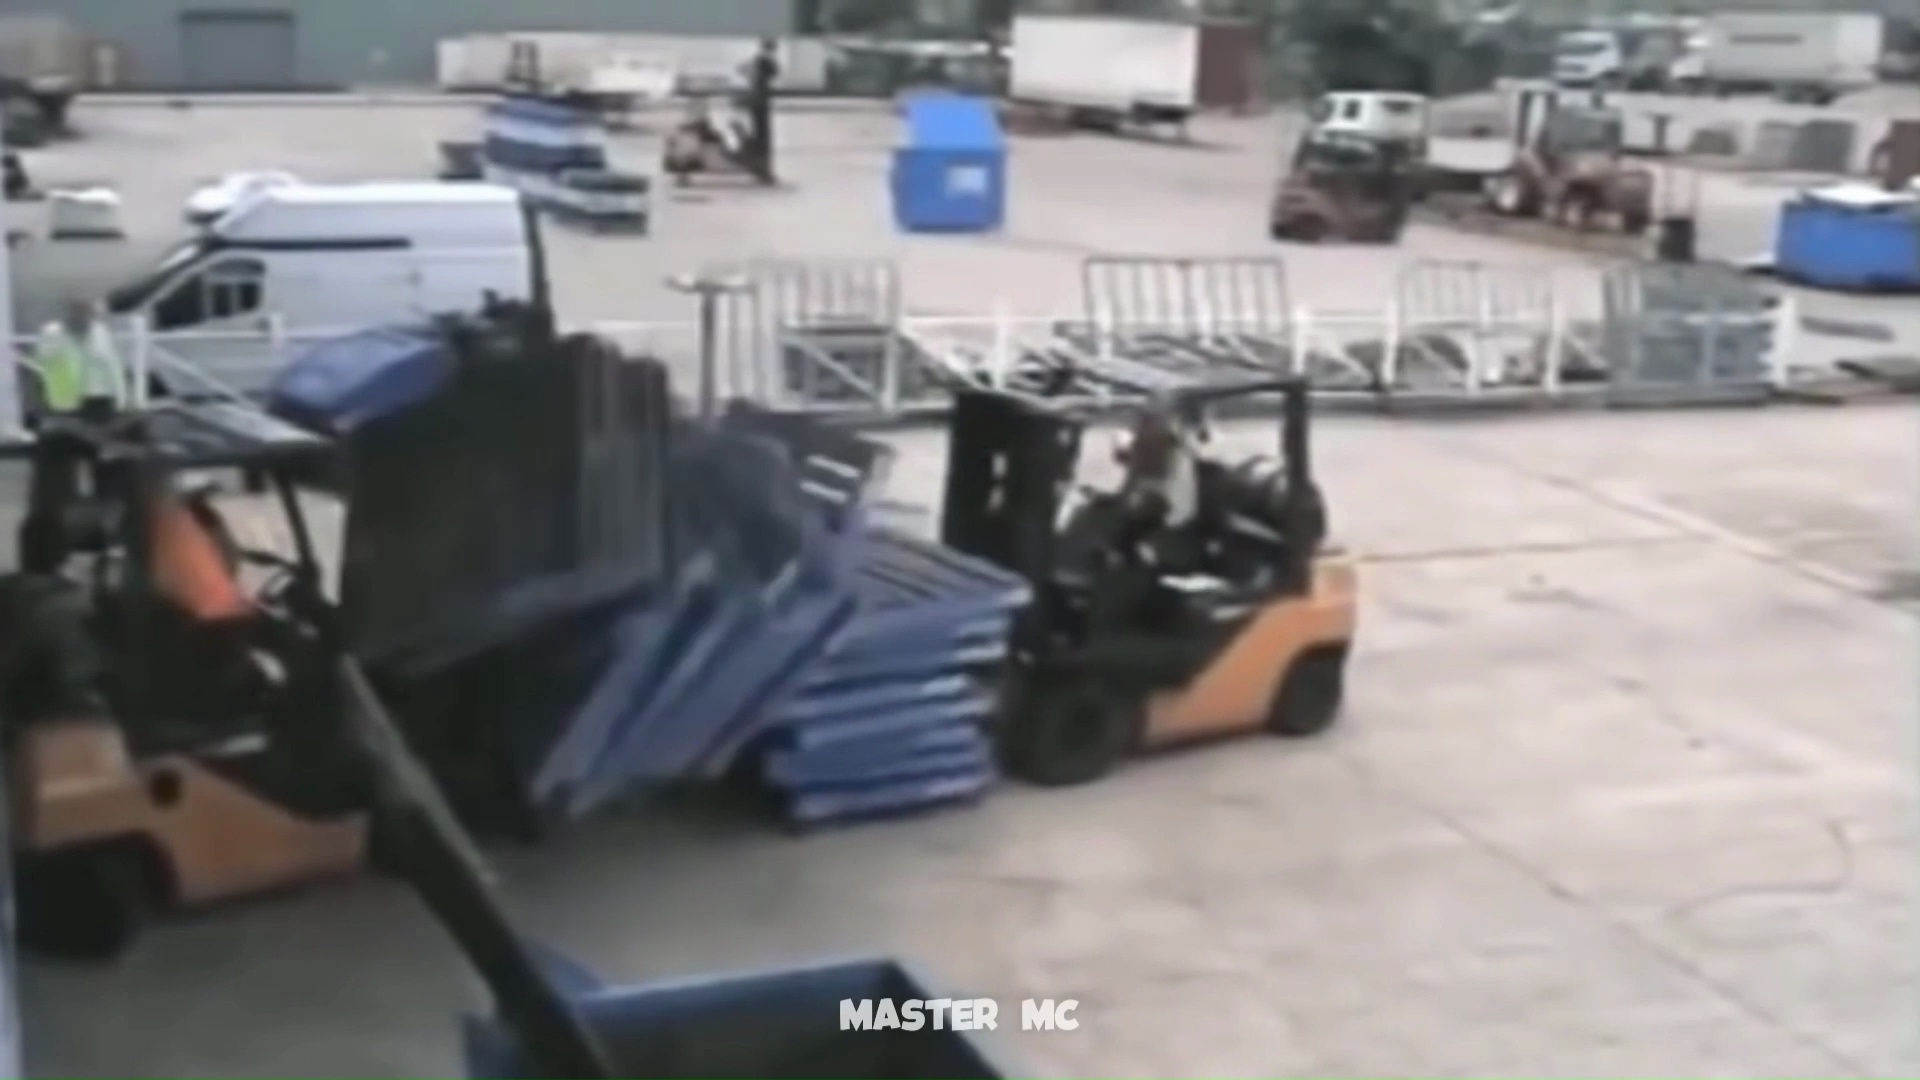forklift: (3, 388, 758, 953), (691, 218, 1364, 818), (694, 219, 1365, 819)
